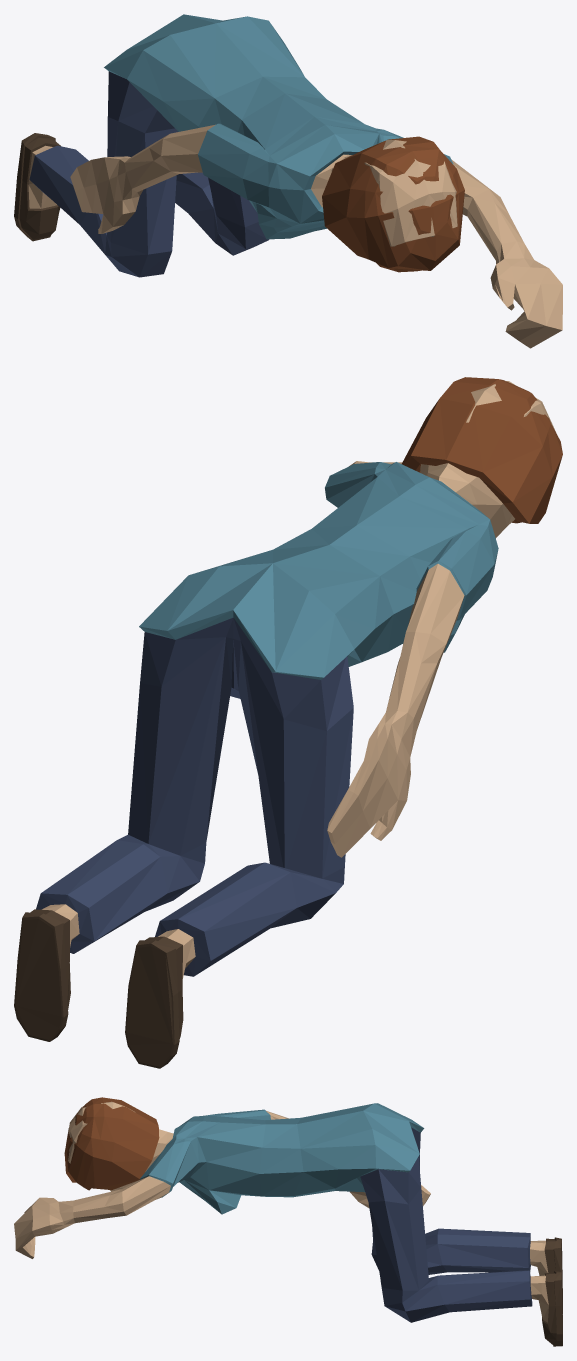
Rendered from woman-sitting-cheering.obj.
The picture shows the model from 3 angles, top to bottom: view 1: azimuth 30°, elevation 25°; view 2: azimuth 150°, elevation 25°; view 3: azimuth 270°, elevation 25°; orthographic projection. The views are drawn at different scales.
Visible parts, largest first — view 1: woman-sitting-cheering; view 2: woman-sitting-cheering; view 3: woman-sitting-cheering.
Boxes of the visible parts, x1,y1,x2,y2 form: woman-sitting-cheering: [14, 14, 562, 348]; woman-sitting-cheering: [14, 377, 562, 1068]; woman-sitting-cheering: [14, 1097, 562, 1346].
Size of the model in its own units: 18.96 by 25.87 by 57.47.
